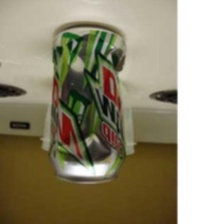can: (46, 20, 131, 185)
